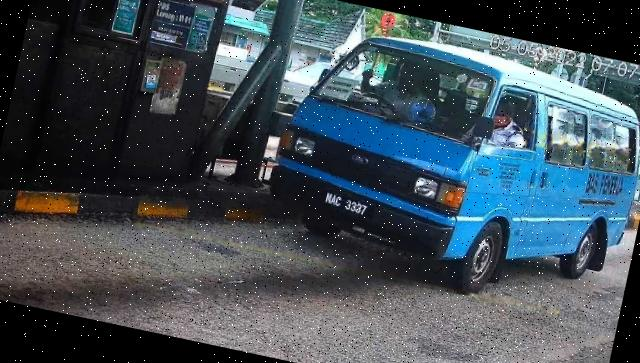License_Plate: (317, 188, 372, 223)
van: (257, 15, 640, 323)
